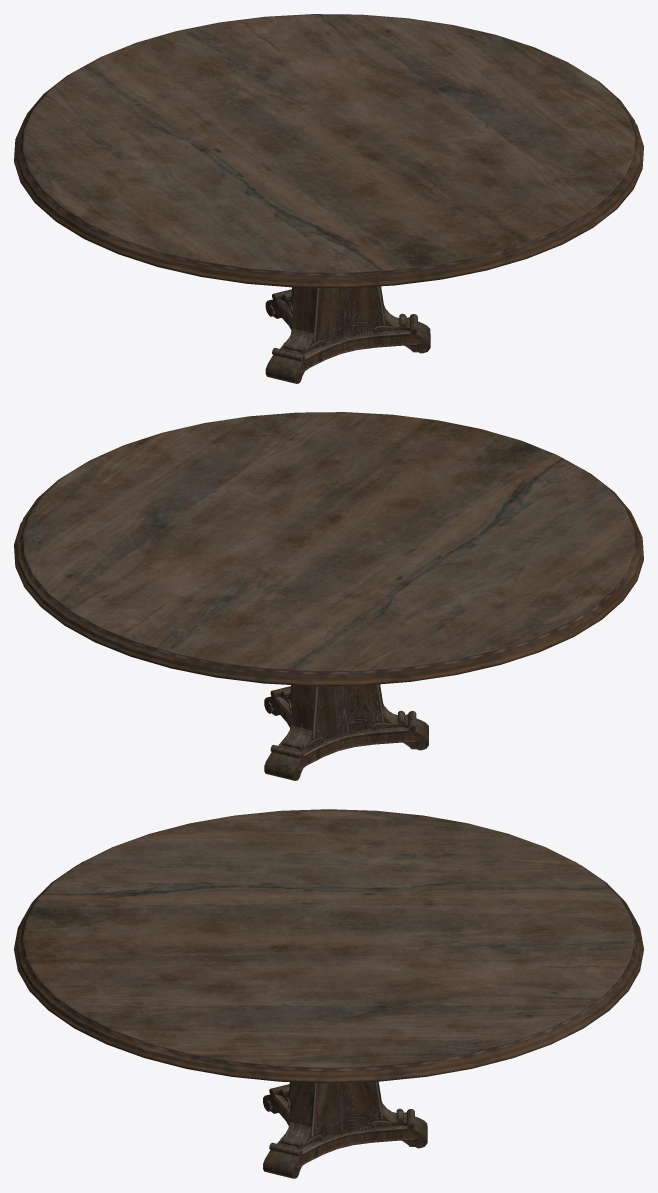
The model's file is SM_RoundTable.FBX.
3 views of the same model, one above another, from view 1: azimuth 30°, elevation 25°; view 2: azimuth 150°, elevation 25°; view 3: azimuth 270°, elevation 25° (orthographic).
Visible parts, largest first — view 1: SM_RoundTable_LOD0; view 2: SM_RoundTable_LOD0; view 3: SM_RoundTable_LOD0.
Boxes of the visible parts, x1,y1,x2,y2 form: SM_RoundTable_LOD0: (14, 14, 643, 383); SM_RoundTable_LOD0: (14, 412, 643, 780); SM_RoundTable_LOD0: (14, 809, 643, 1178).
Size of what is drawn, in the model's own units: 240 by 85 by 240.
